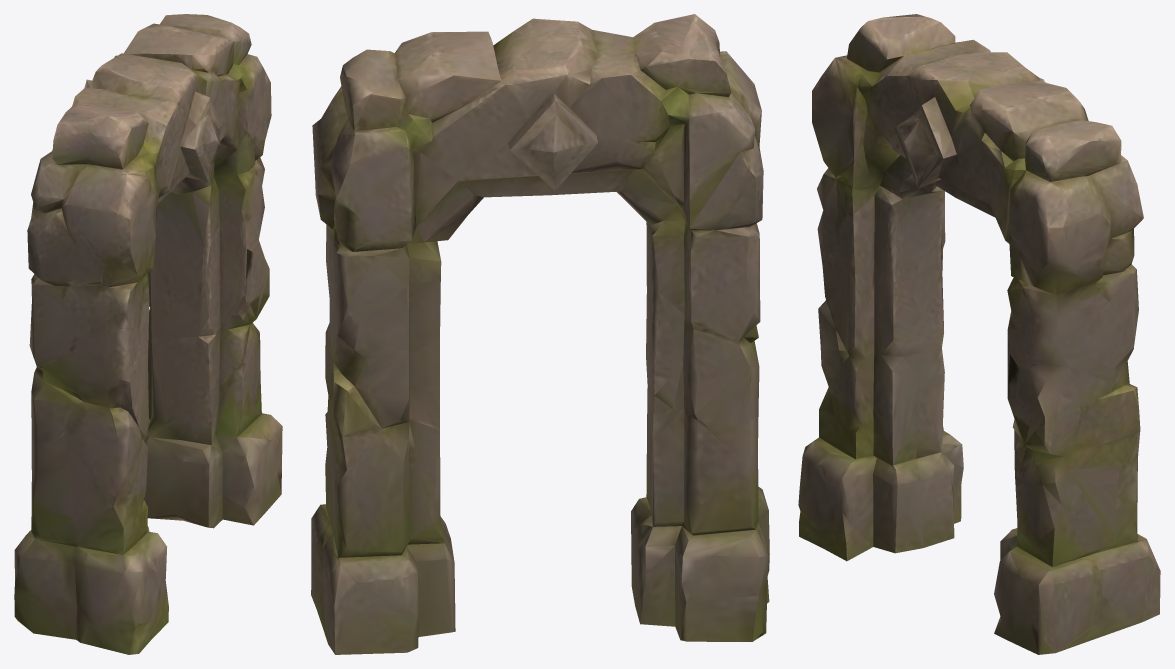
The model's file is puerta_llave_marco_1500.glb.
3 renders of one model, left to right at view 1: azimuth 30°, elevation 25°; view 2: azimuth 150°, elevation 25°; view 3: azimuth 270°, elevation 25°, orthographic. The views are drawn at different scales.
Visible parts, largest first — view 1: puerta_llave_marco_malla; view 2: puerta_llave_marco_malla; view 3: puerta_llave_marco_malla.
Boxes of the visible parts, box(x1,y1,x2,y2) form: puerta_llave_marco_malla: box(14, 14, 282, 654); puerta_llave_marco_malla: box(311, 14, 769, 654); puerta_llave_marco_malla: box(798, 14, 1160, 654).
Size of the model in its own units: 0.3044 by 0.4509 by 0.2825.
1 material, 1 textured.
